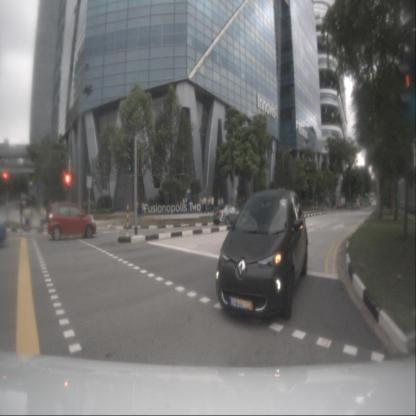human-pedestrian-adult: (40, 204, 46, 234), (24, 206, 30, 234), (141, 200, 145, 220), (187, 196, 191, 214), (209, 194, 212, 214), (201, 197, 204, 216), (220, 196, 224, 210), (207, 197, 210, 214), (218, 196, 221, 211), (212, 194, 214, 213), (204, 195, 206, 213)
vehicle-car: (216, 188, 308, 320), (47, 202, 97, 241), (212, 203, 243, 226)
